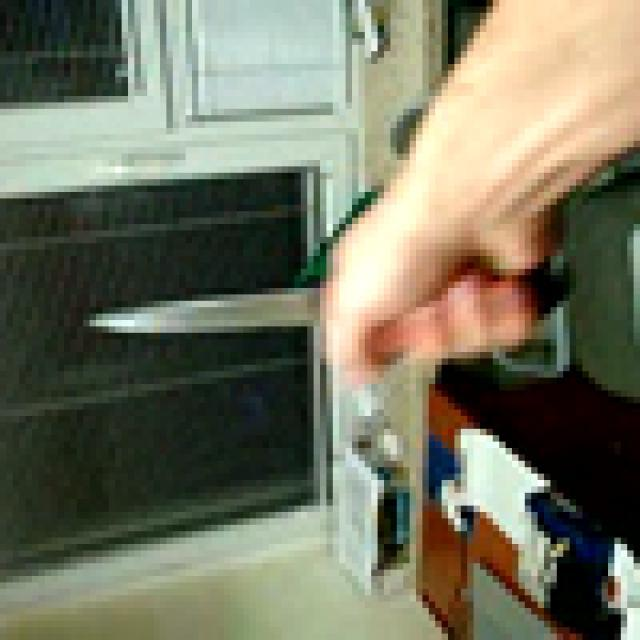Knife: (90, 250, 570, 364)
